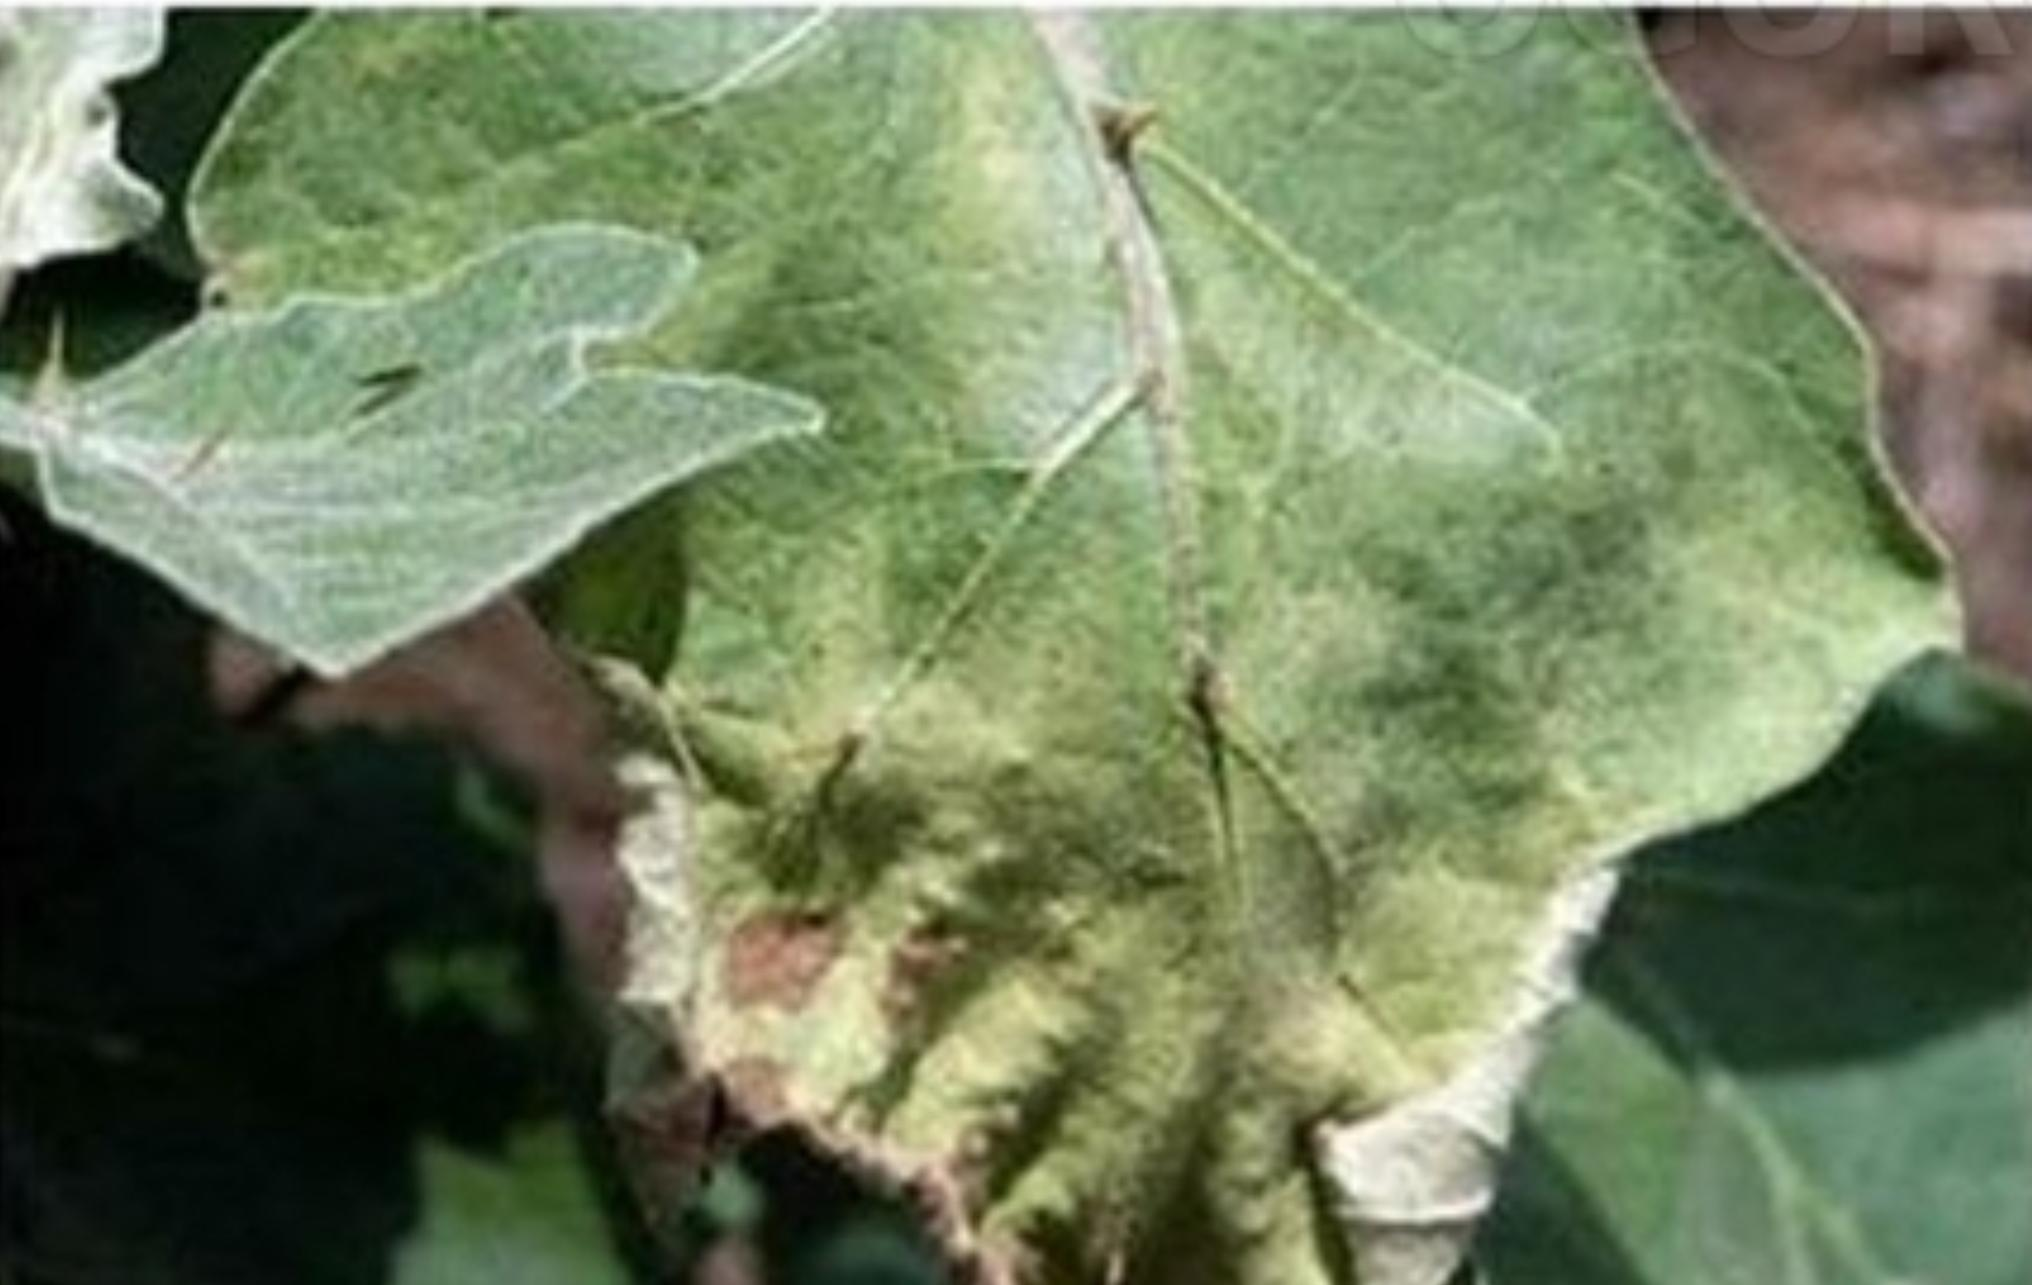Verticillium wilt: (608, 754, 1015, 1284)
